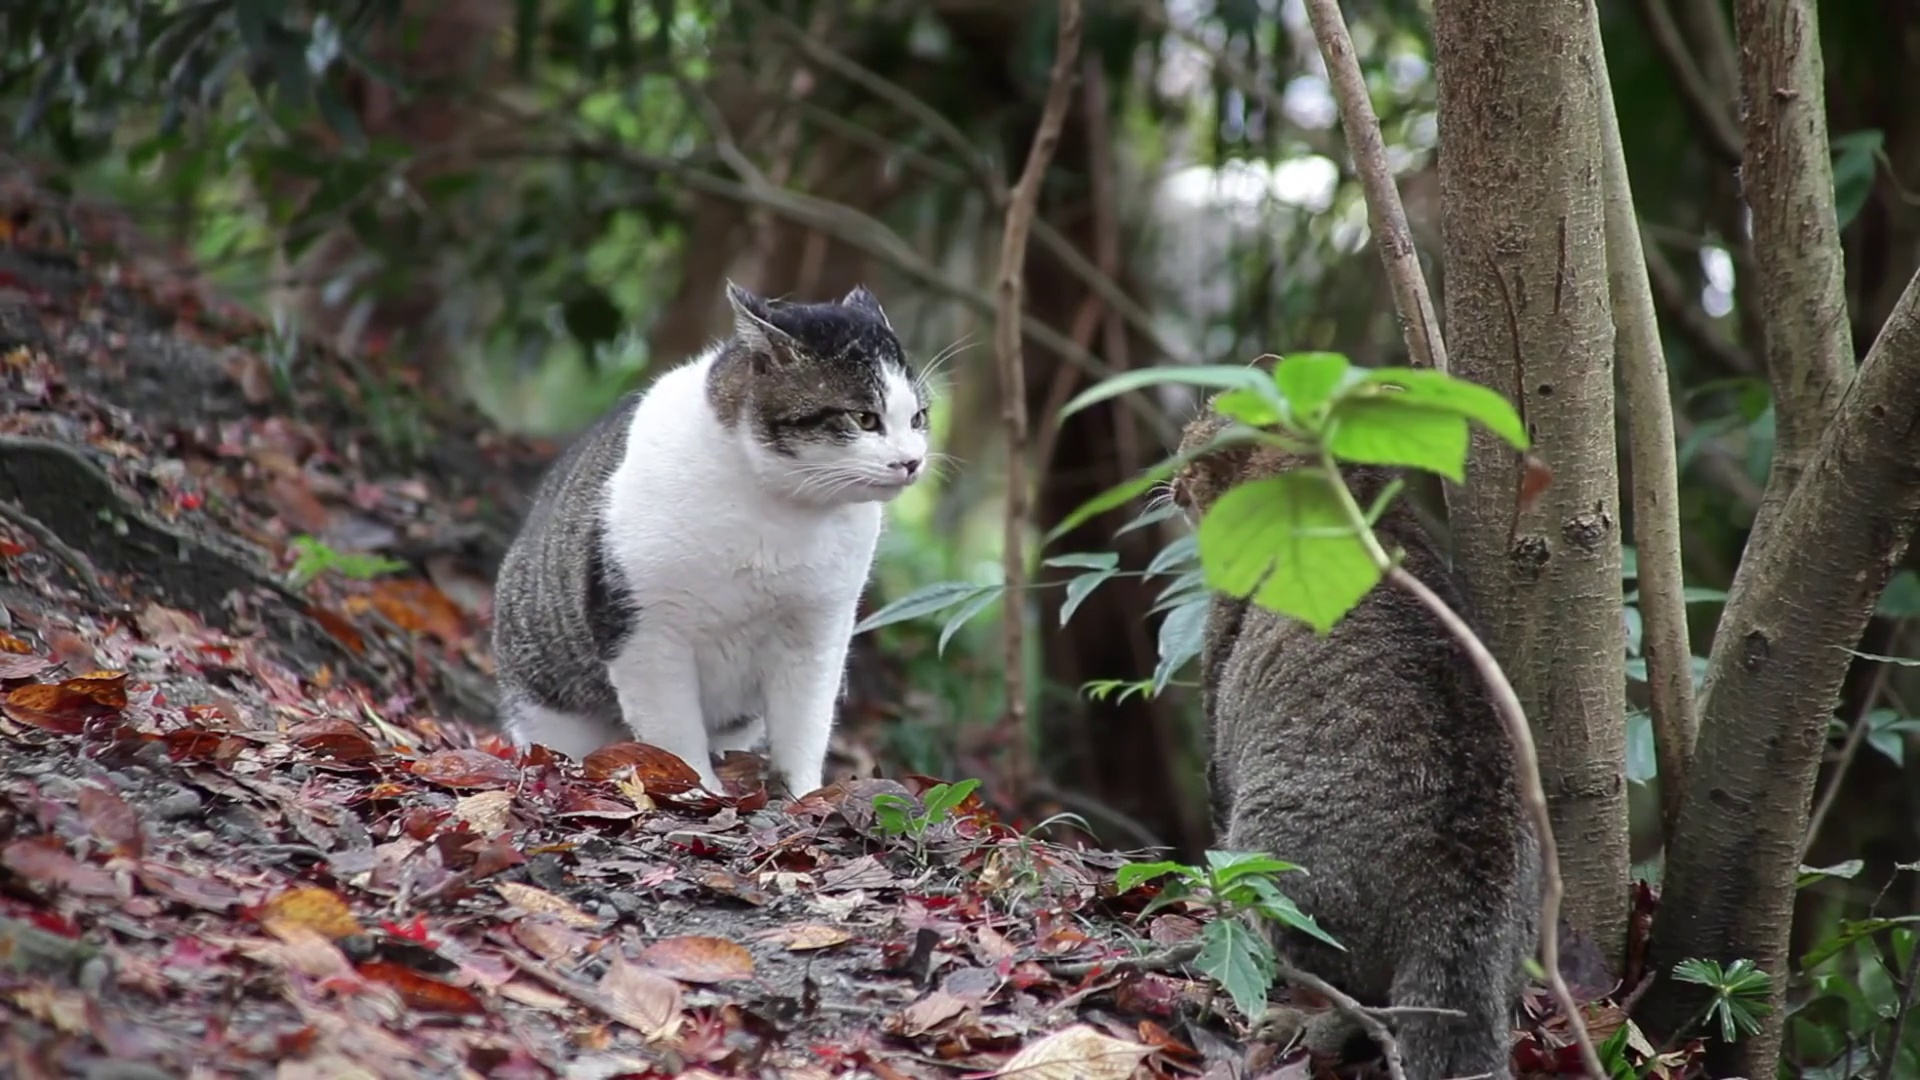black-white: (495, 274, 931, 808)
pure black: (1166, 349, 1538, 1080)
